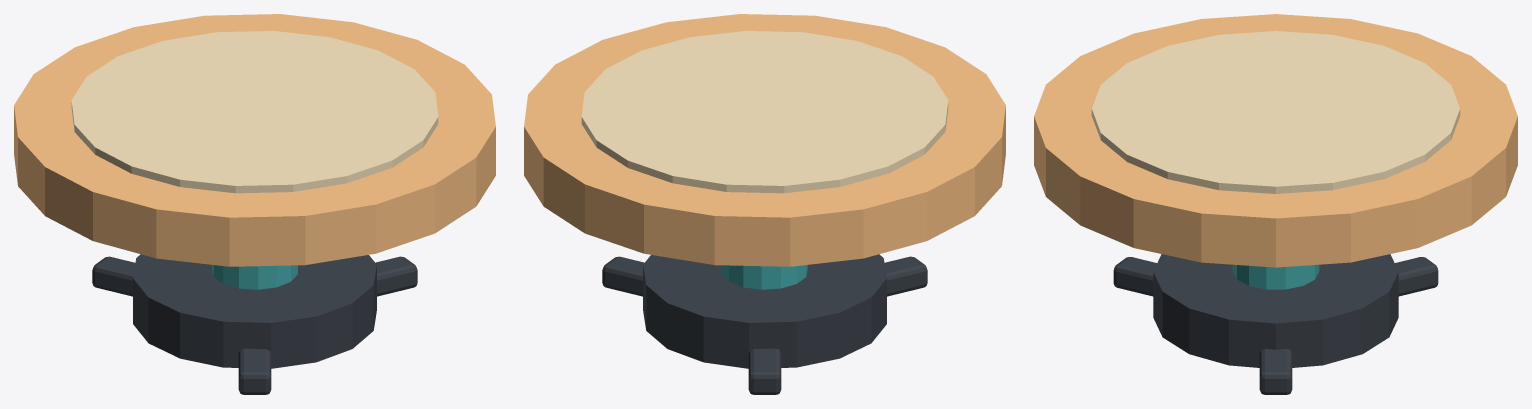
The model's file is CoffeeTable.fbx.
The picture shows the model from 3 angles, left to right: view 1: azimuth 30°, elevation 25°; view 2: azimuth 150°, elevation 25°; view 3: azimuth 270°, elevation 25°; orthographic projection.
Visible parts, largest first — view 1: Table_Top, Table_Inlay, Table_Base, Table_Stem, Table_Foot.002, Table_Foot.001, Table_Foot; view 2: Table_Top, Table_Inlay, Table_Base, Table_Stem, Table_Foot.001, Table_Foot.002, Table_Foot; view 3: Table_Top, Table_Inlay, Table_Base, Table_Stem, Table_Foot, Table_Foot.001, Table_Foot.002.
Boxes of the visible parts, x1,y1,x2,y2 form: Table_Top: (14, 14, 495, 266); Table_Inlay: (71, 31, 438, 193); Table_Base: (133, 254, 376, 368); Table_Stem: (212, 265, 297, 289); Table_Foot.002: (238, 348, 271, 394); Table_Foot.001: (92, 256, 135, 296); Table_Foot: (375, 256, 417, 296); Table_Top: (524, 14, 1005, 266); Table_Inlay: (581, 31, 948, 193); Table_Base: (643, 254, 886, 368); Table_Stem: (722, 265, 807, 289); Table_Foot.001: (748, 348, 781, 394); Table_Foot.002: (884, 256, 927, 296); Table_Foot: (602, 256, 644, 296); Table_Top: (1034, 14, 1517, 267); Table_Inlay: (1091, 31, 1460, 193); Table_Base: (1153, 254, 1398, 367); Table_Stem: (1232, 264, 1319, 289); Table_Foot: (1259, 349, 1292, 394); Table_Foot.001: (1395, 257, 1438, 296); Table_Foot.002: (1113, 257, 1156, 296).
Bounding box in the file's own units: 134 × 64.75 × 134.
